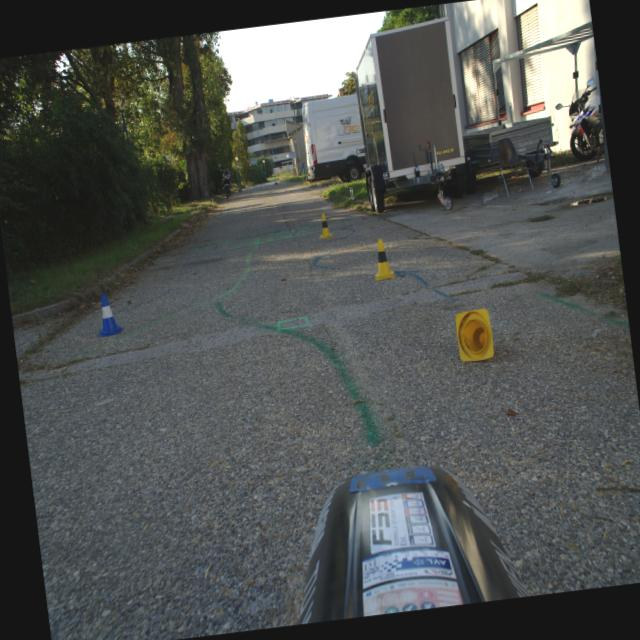blue_cone: (93, 292, 123, 337)
yellow_cone: (454, 308, 494, 362), (370, 238, 395, 280), (316, 212, 334, 238)
